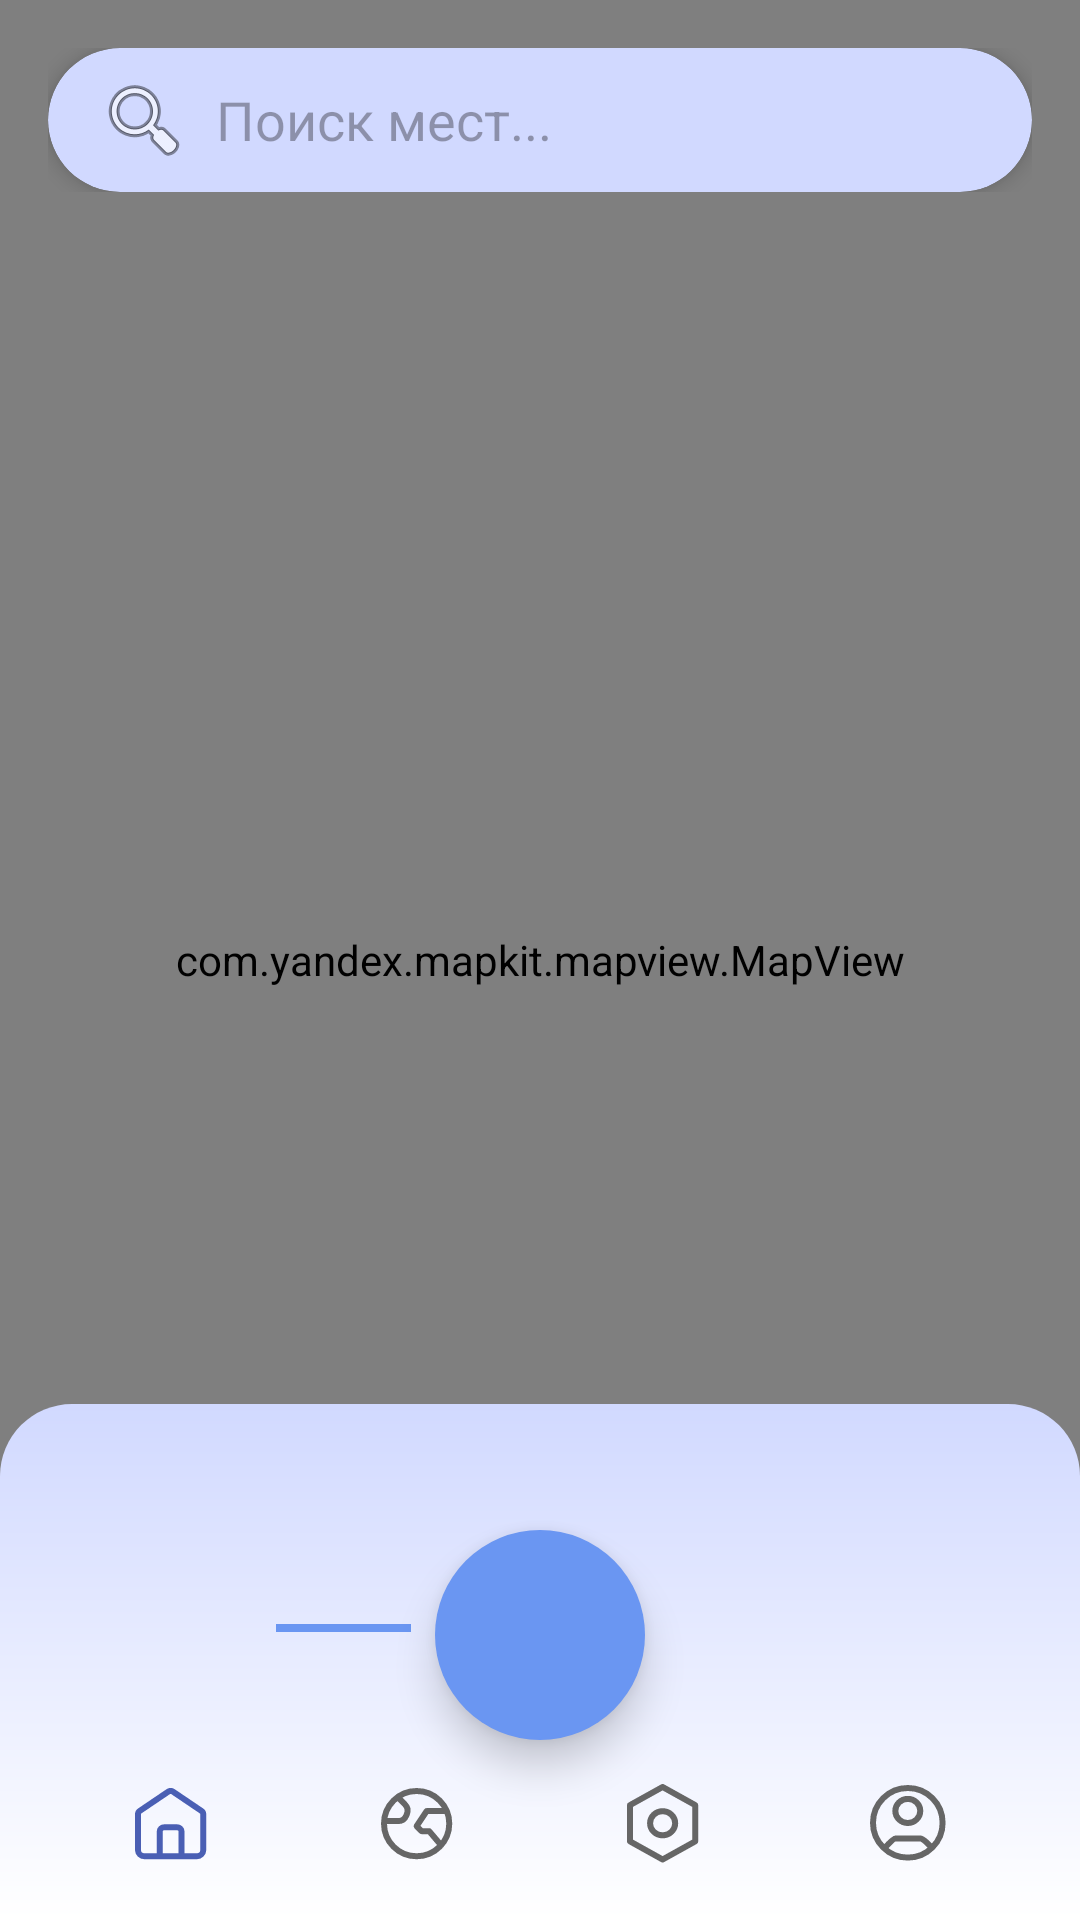

Where icons sit on this 1080w x 1920h app screen, as Rect(x1, y1, x2, y2):
Главная: Rect(135, 1788, 207, 1860)
Мир: Rect(381, 1788, 453, 1860)
Настройки: Rect(627, 1784, 699, 1863)
Профиль: Rect(870, 1785, 946, 1861)
